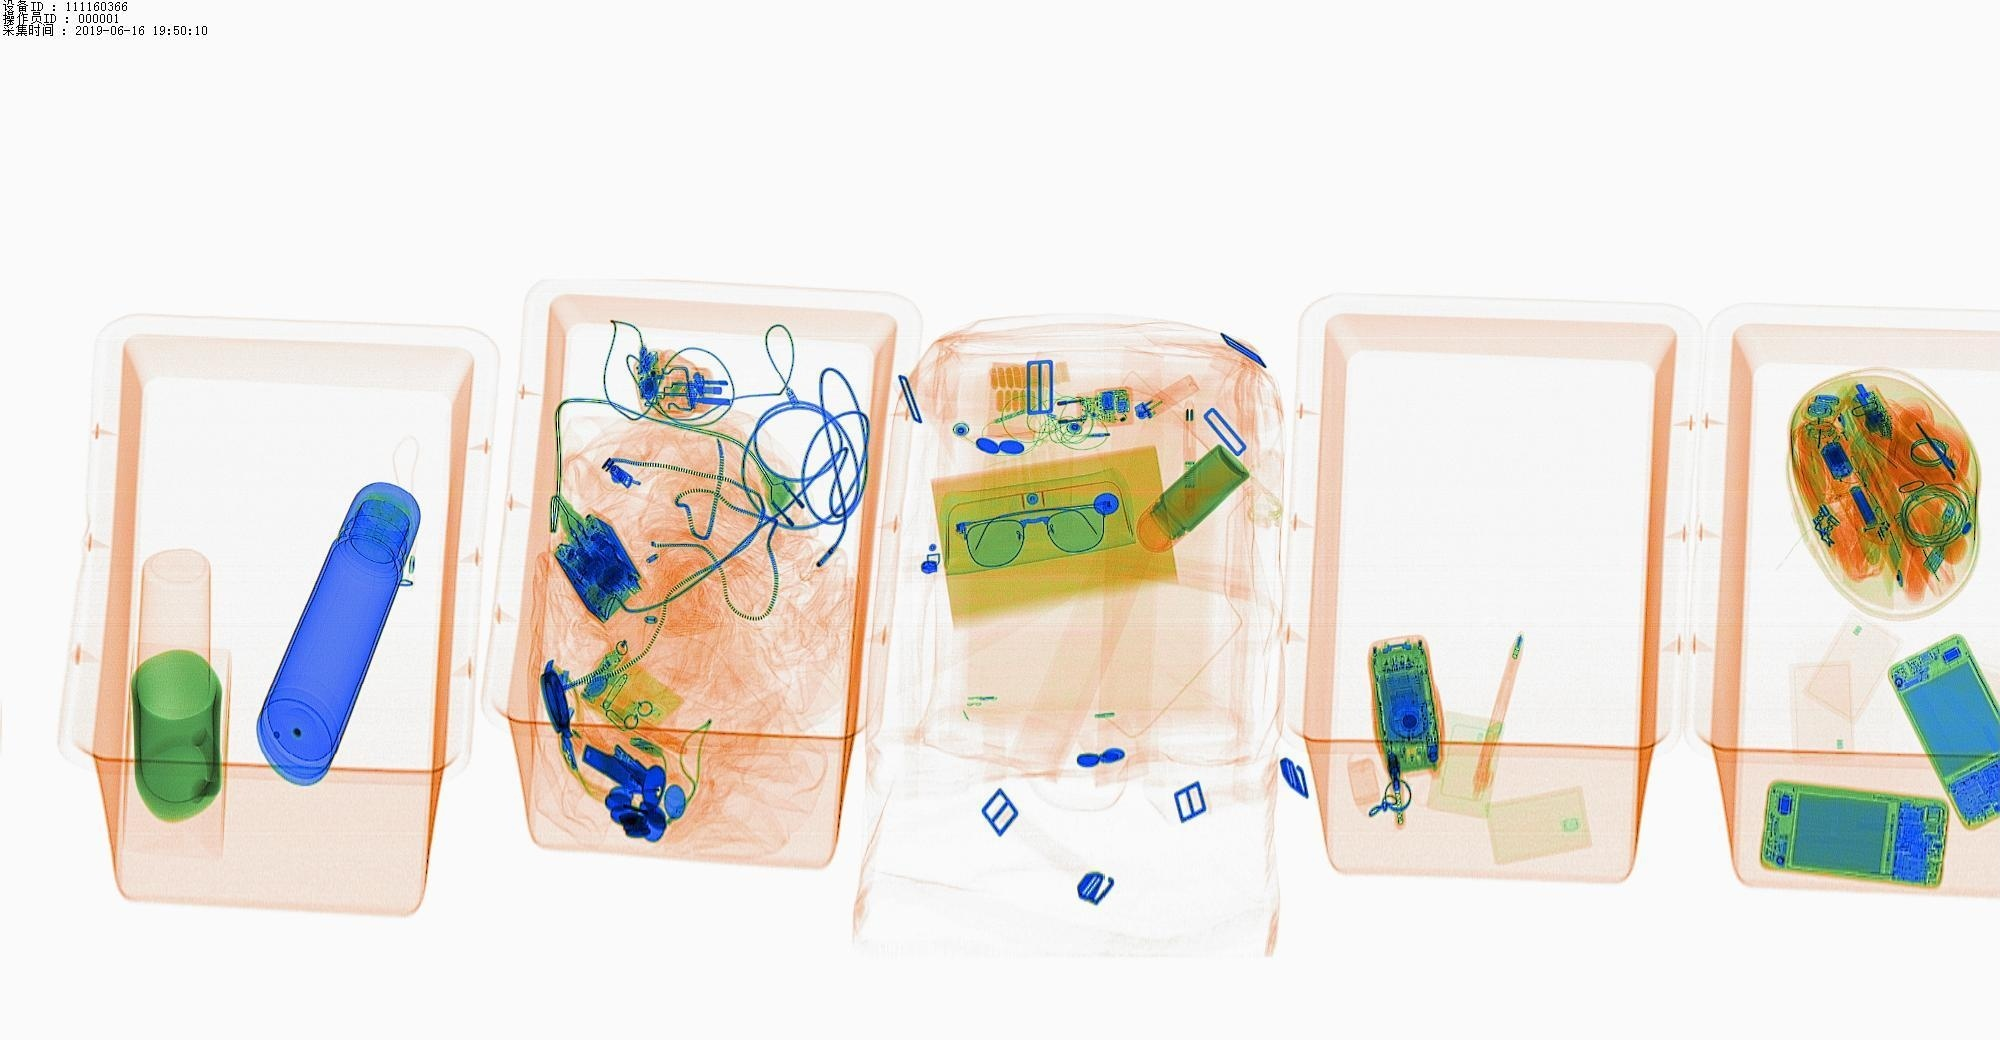NonmetallicFire: (1131, 348, 1216, 429)
